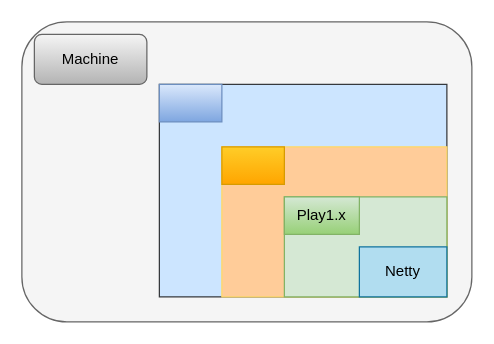
Some shapes in this 494 by 344 pixel diagram are drawn without their labels. The shapes that lost their labels are listed below. From the top down, each one's centre as x and y in pixels, then its label:
At pixel 190 102: "JVM".
At pixel 252 165: "Zip".
